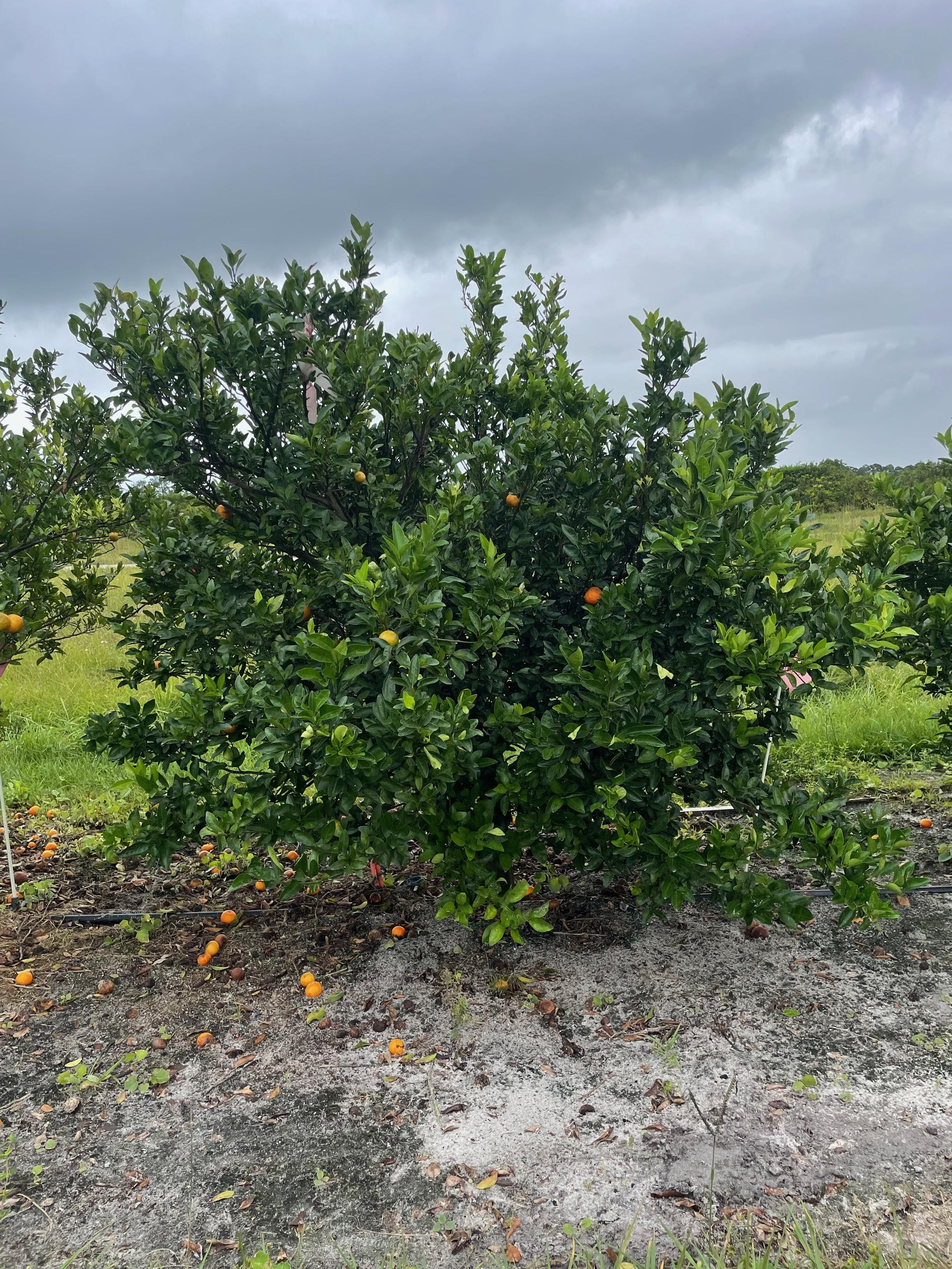fruit_on_ground: (376, 626, 401, 651), (288, 601, 314, 624), (582, 584, 606, 607), (4, 610, 26, 634), (213, 499, 235, 522), (0, 610, 16, 634), (503, 489, 522, 509), (352, 469, 368, 485), (108, 530, 121, 543)
fruit_on_tree: (747, 919, 771, 940), (520, 880, 540, 900), (387, 1037, 407, 1057), (194, 1030, 216, 1048), (14, 968, 34, 986), (304, 981, 324, 998), (228, 965, 247, 982), (6, 890, 27, 905), (219, 908, 238, 924), (298, 970, 316, 986), (204, 938, 221, 953), (391, 923, 408, 938), (546, 896, 562, 911), (252, 877, 268, 892), (211, 932, 226, 946), (39, 848, 55, 861), (199, 840, 215, 853), (195, 953, 211, 966), (12, 870, 28, 883), (918, 816, 933, 829), (285, 848, 300, 861), (196, 848, 210, 861), (226, 864, 240, 877), (208, 863, 222, 876), (43, 840, 58, 852), (46, 827, 59, 838), (283, 868, 296, 879), (29, 833, 42, 844), (29, 804, 40, 815), (26, 840, 37, 850), (46, 808, 57, 817)
